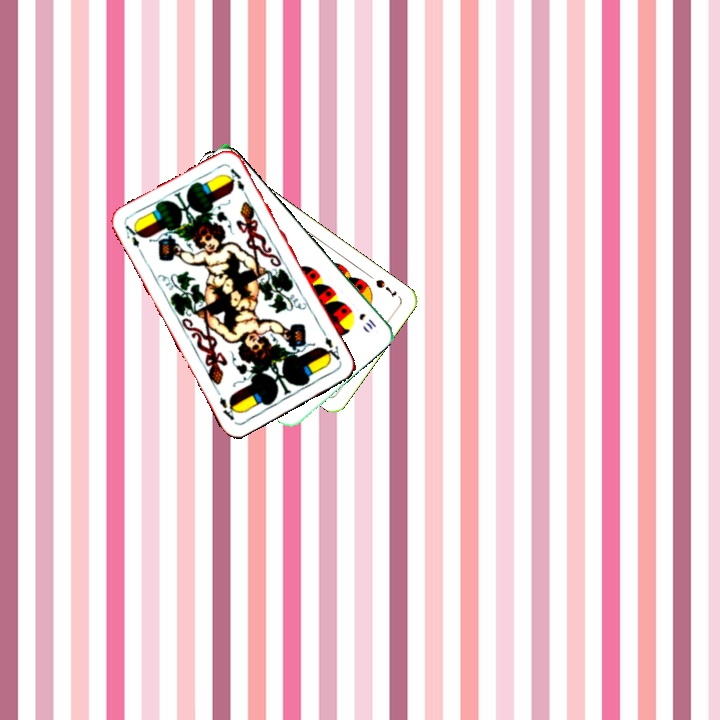EA: (319, 333, 343, 364), (121, 221, 143, 250)
S10: (355, 309, 379, 332)
S7: (372, 275, 399, 300)
